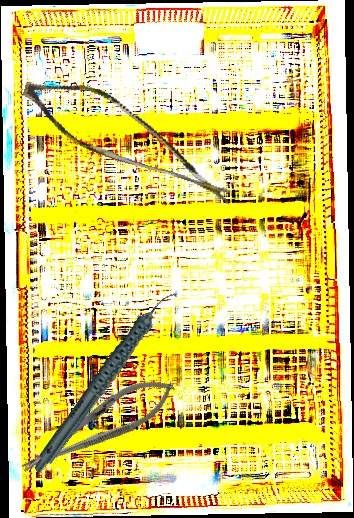Handpiece: (2, 287, 209, 475)
Micro Scissor: (9, 68, 252, 206)
Needle Holder: (12, 365, 183, 487)
